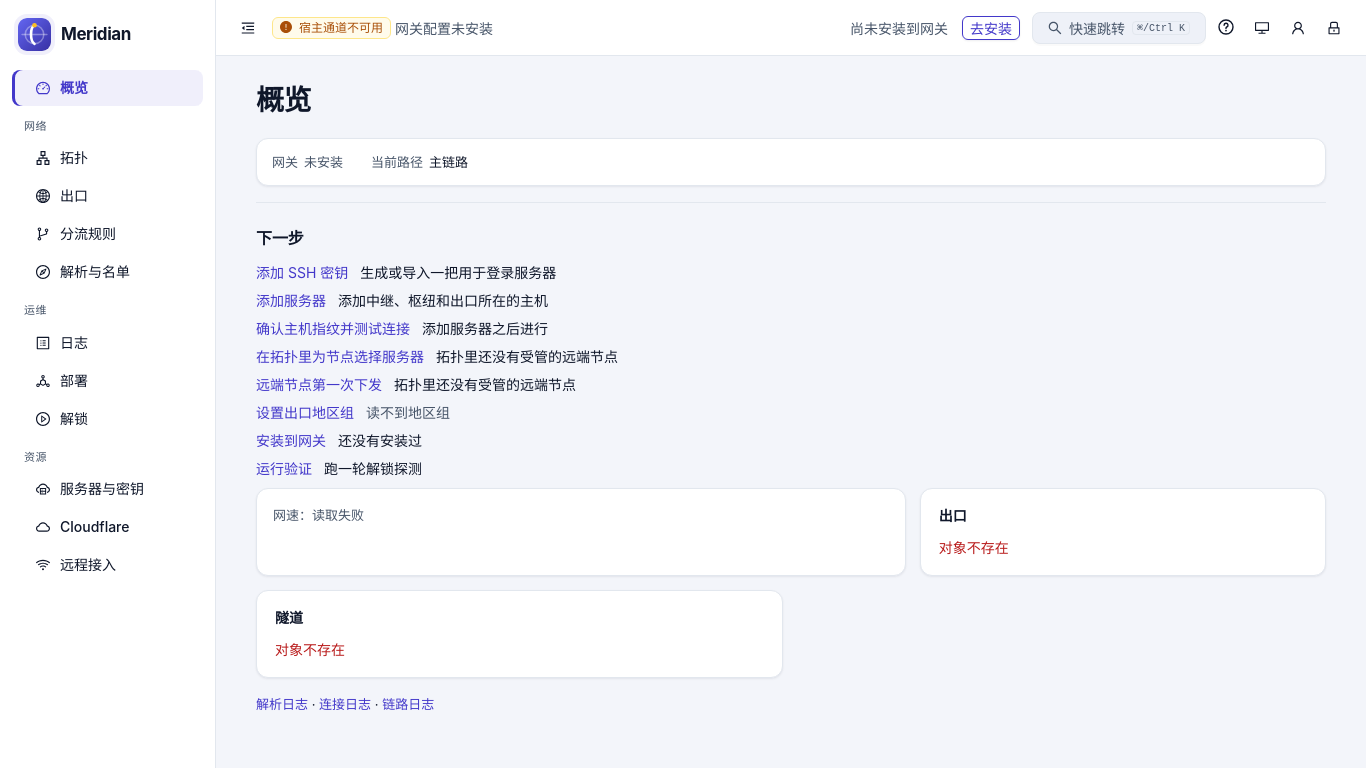
Test: navigation › finds a page by keyword and opens it from the keyboard
Expected: the heading "概览" is shown, x1=256 y1=83 x2=311 y2=117
Press k
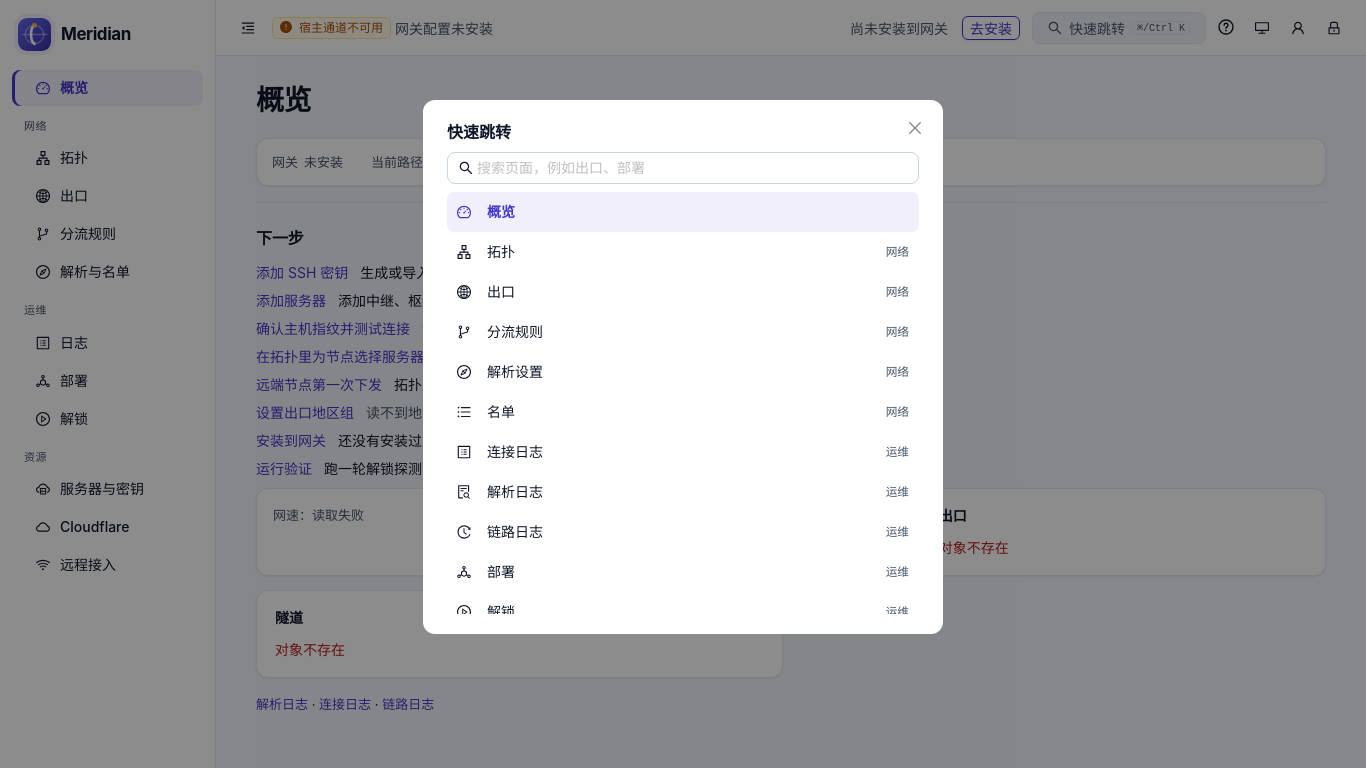
In the field labelled "搜索页面": [692, 168] box x1=477 y1=157 x2=907 y2=179, type "deploy"
Then press Enter
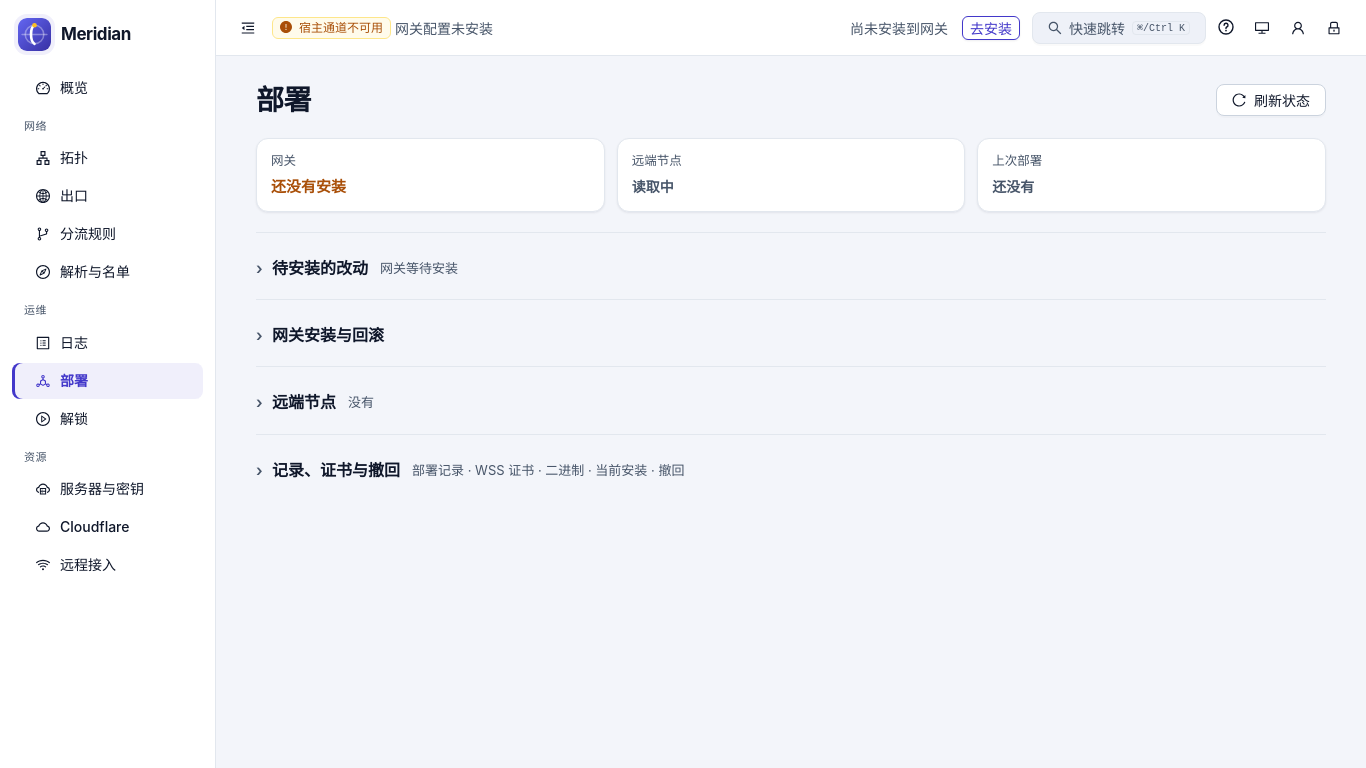
Expected: the heading "部署" is shown, x1=256 y1=83 x2=311 y2=117
